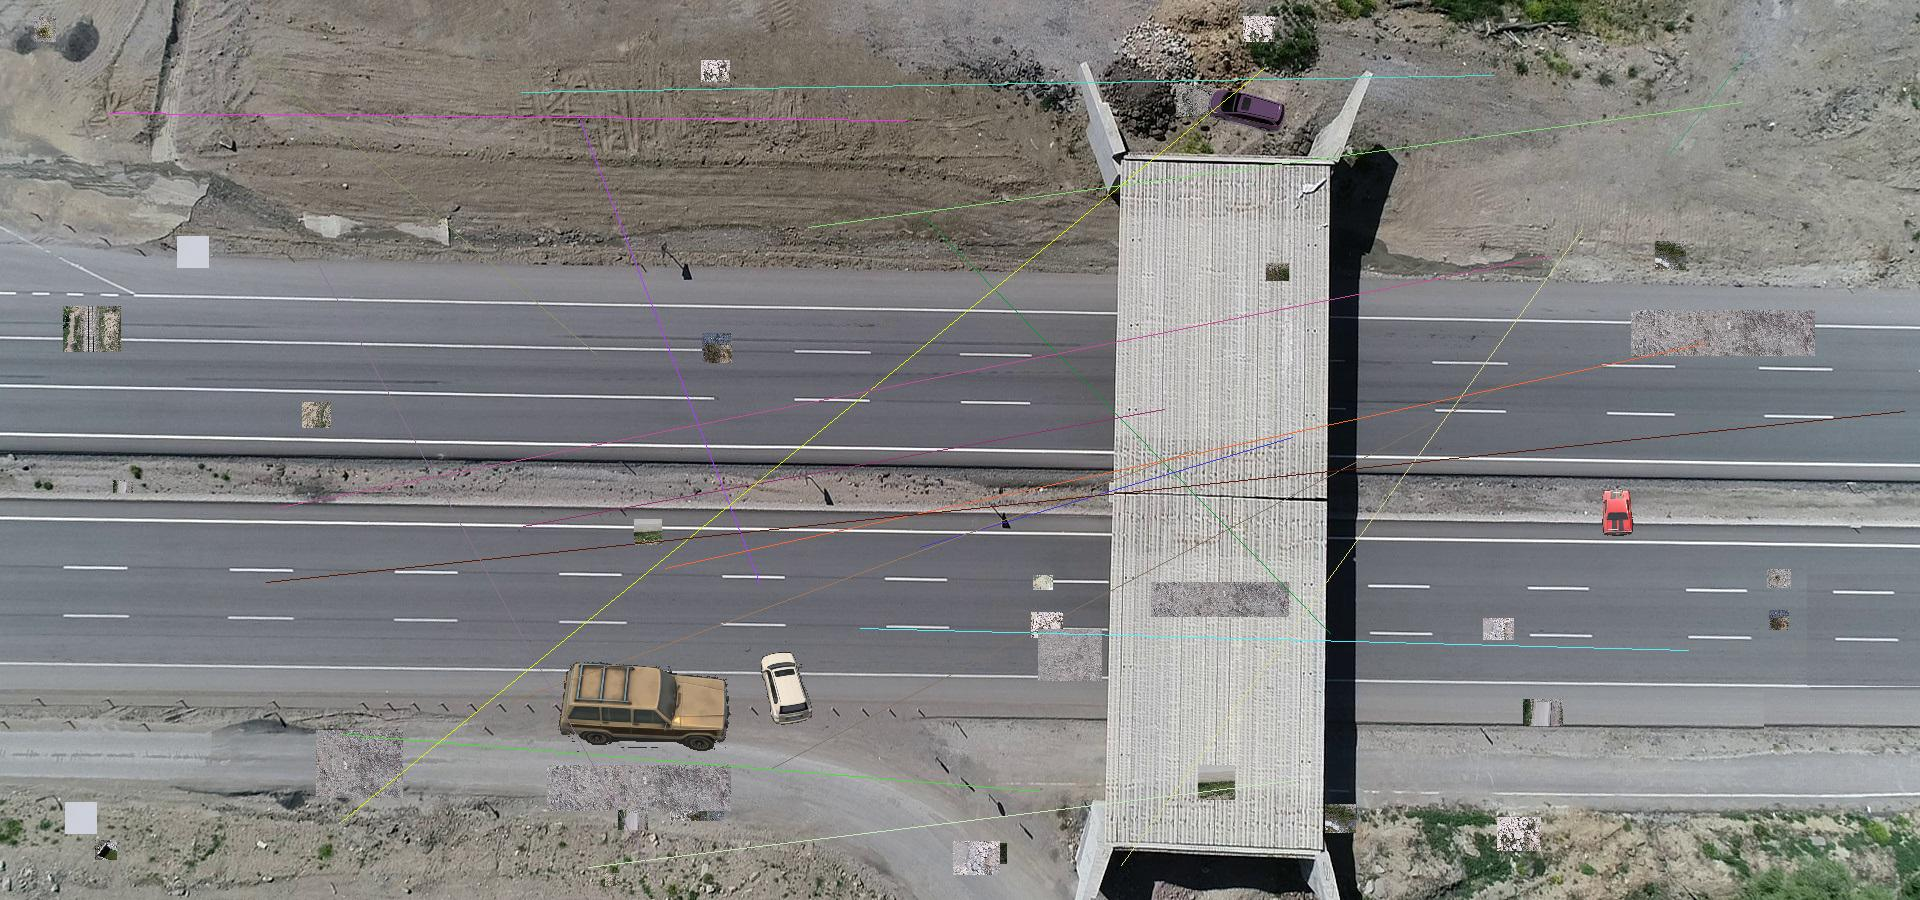arac: (556, 656, 736, 753), (756, 651, 814, 725), (1207, 86, 1287, 138), (1599, 489, 1633, 538)
